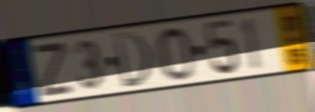1: (240, 15, 262, 74)
3: (72, 38, 105, 93)
5: (203, 17, 241, 77)
D: (112, 30, 155, 90)
O: (154, 25, 196, 82)
Z: (32, 39, 75, 100)
